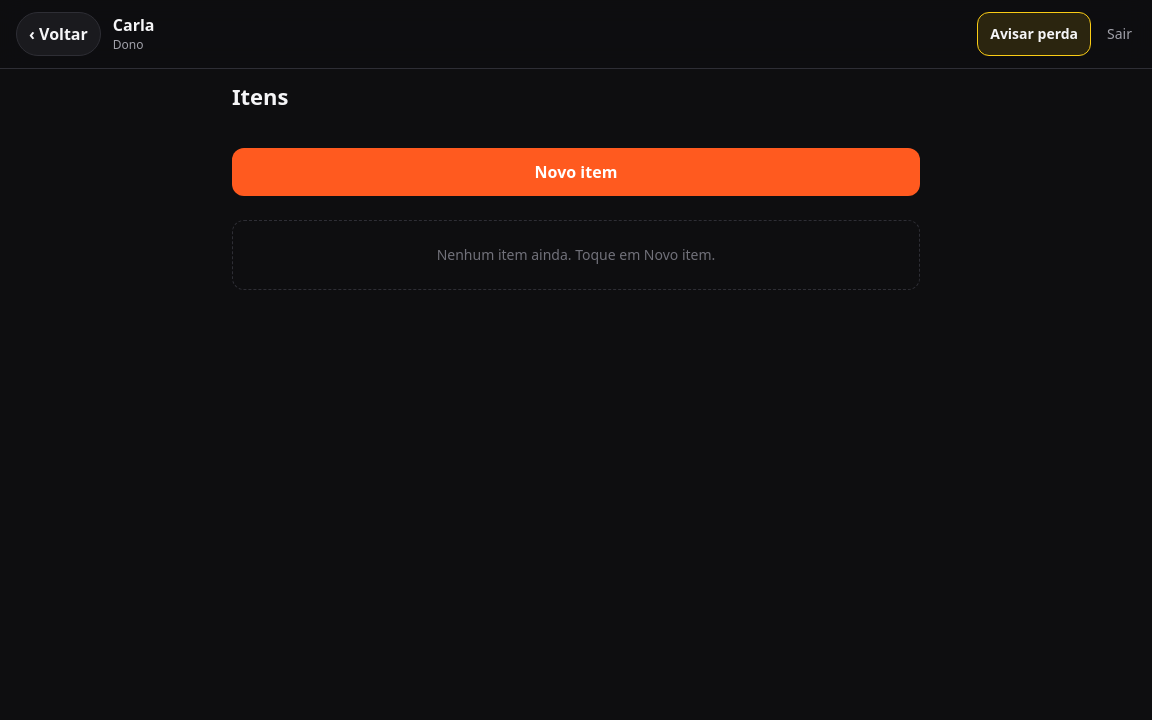
Test: App da equipe › Voltar no topo leva para a tela de cima; no início não aparece
Click the button "‹ Voltar". click: [58, 34]
box: [16, 12, 101, 56]
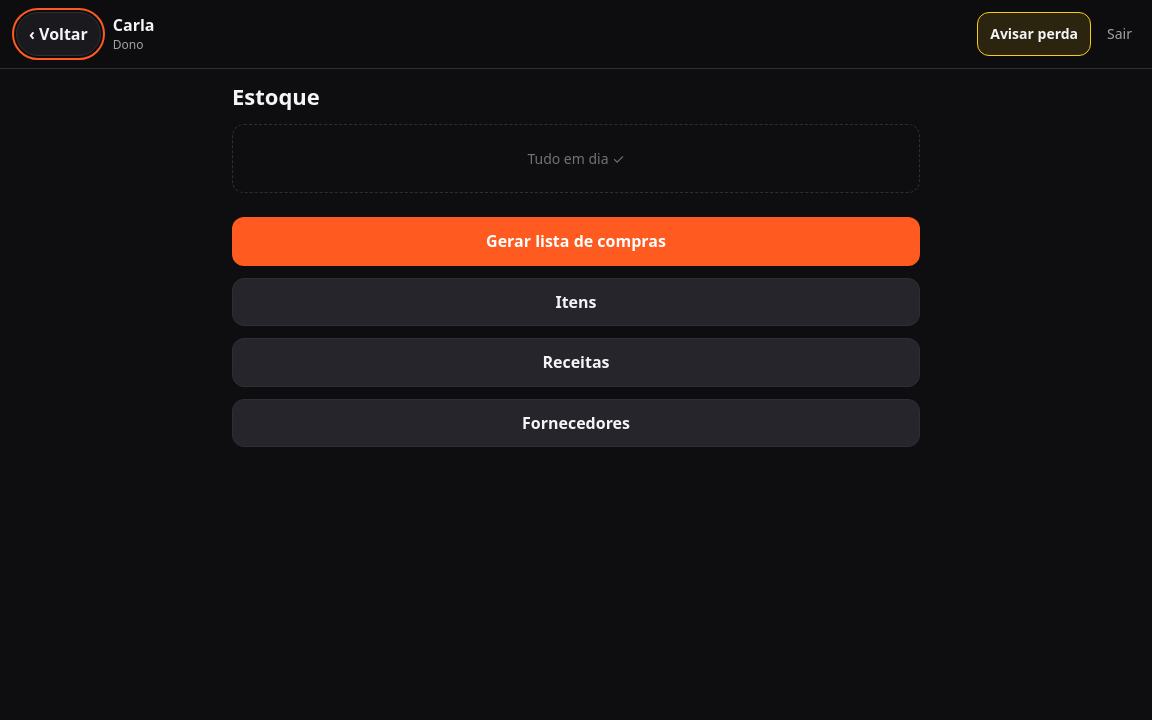
Click the button "‹ Voltar". click: [58, 34]
box: [16, 12, 101, 56]
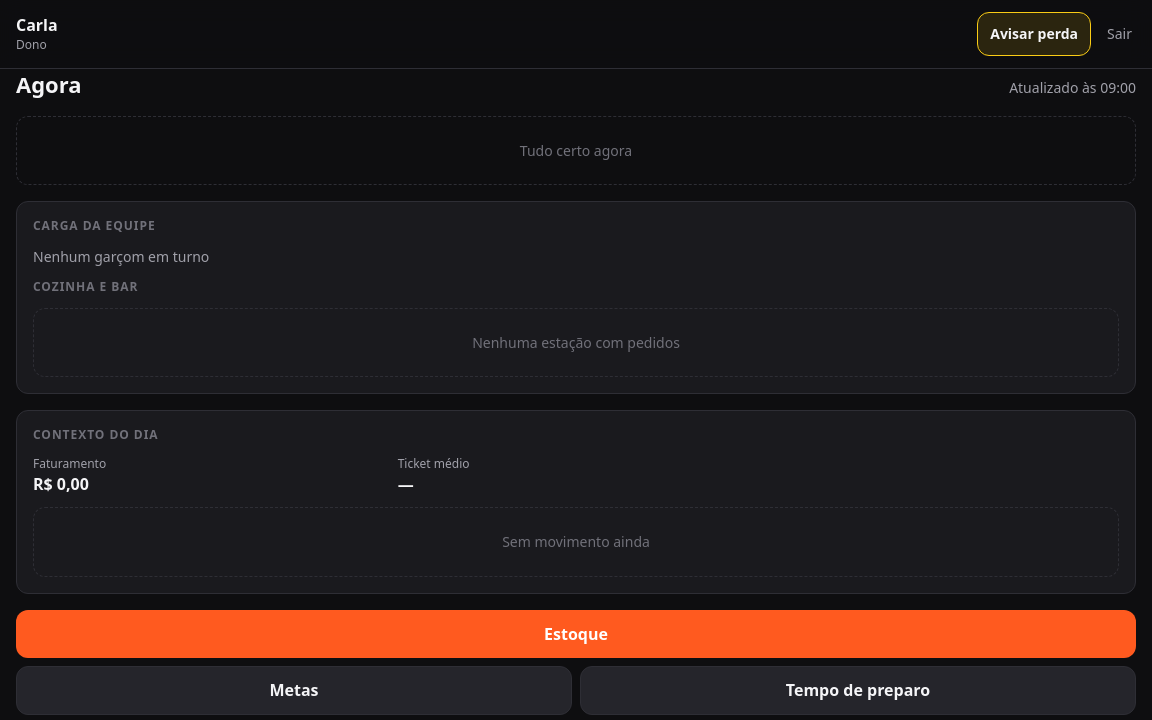
Result: the button "Estoque" is shown at [16, 610, 1136, 658]
Result: the button "Voltar" is gone
